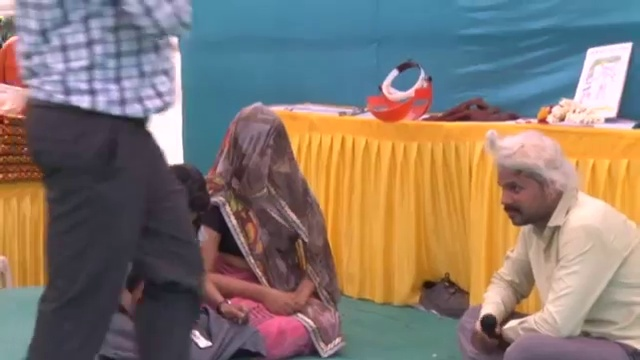helmet: (0, 81, 33, 120)
helmet_off: (487, 131, 575, 231), (223, 105, 295, 178), (165, 162, 212, 241)
person: (11, 0, 203, 358), (451, 129, 640, 359), (202, 98, 340, 360), (97, 162, 268, 360)
